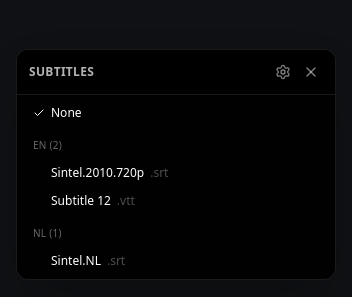
Test case: SubtitlePicker search and selection › asks for another subtitle when neither it nor the player can read the file
Expected: the text "en (2)" is shown, [33,138,62,152]
Click the button "Sintel.NL .srt". click: (76,260)
box: [21,247,331,275]
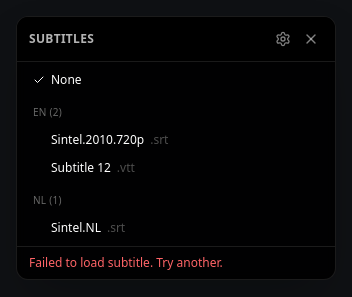
Expected: the text "Failed to load subtitle. Try another." is shown, [17,246,335,279]
